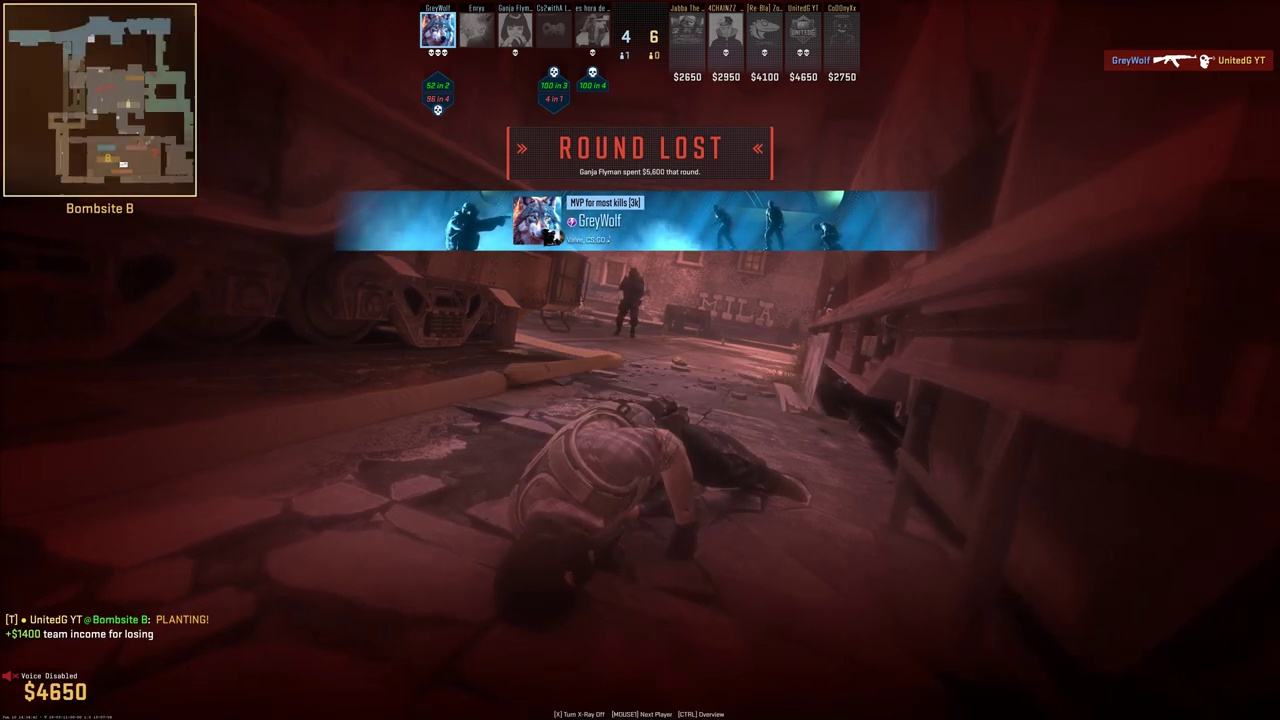CT: (614, 266, 645, 335), (762, 201, 786, 250)
